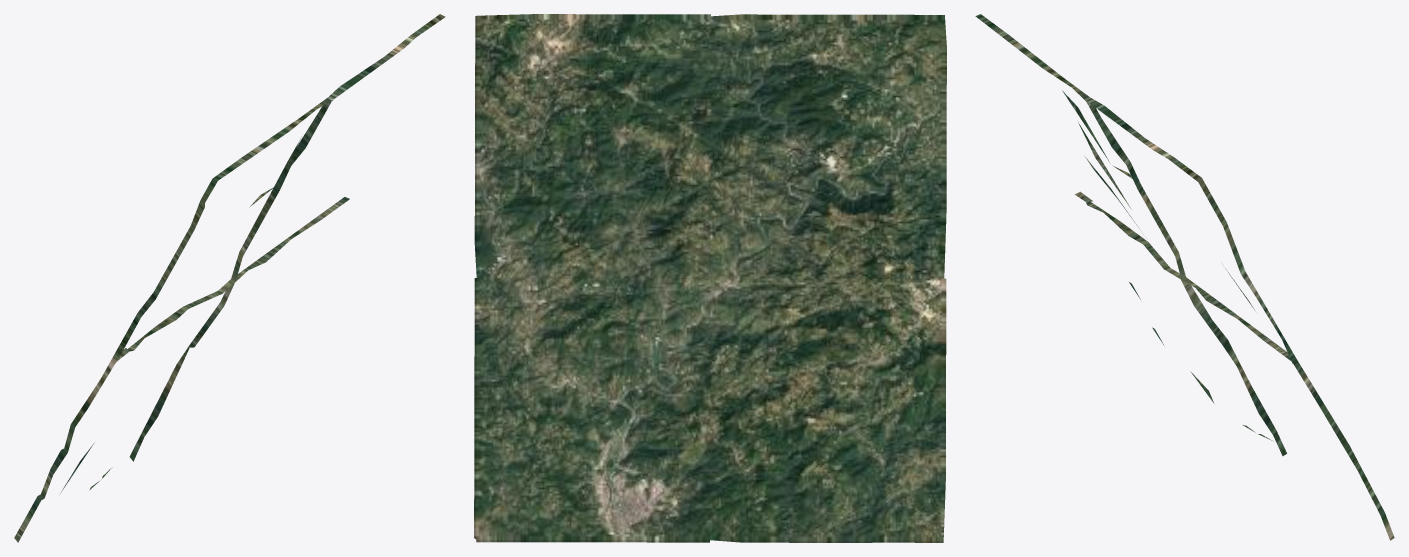
3 renders of one model, left to right at view 1: azimuth 30°, elevation 25°; view 2: azimuth 150°, elevation 25°; view 3: azimuth 270°, elevation 25°, orthographic. The views are drawn at different scales.
Size of the model in its own units: 39538 by 35501 by 32854.
1 material, 1 textured.
